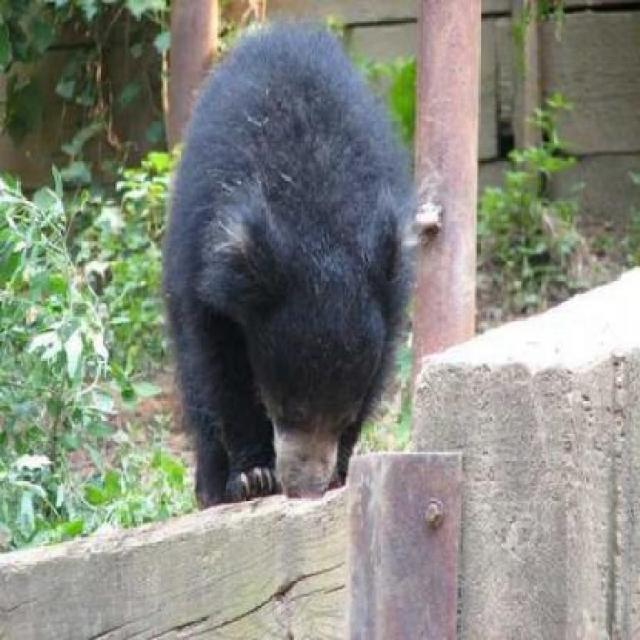Bear: (150, 7, 421, 504)
